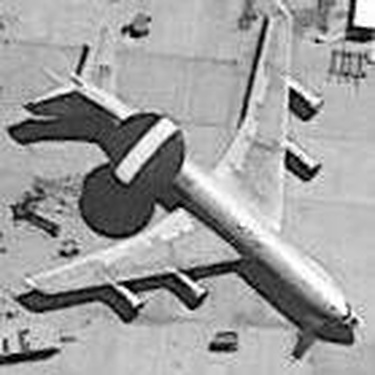airplane: (1, 7, 369, 357)
